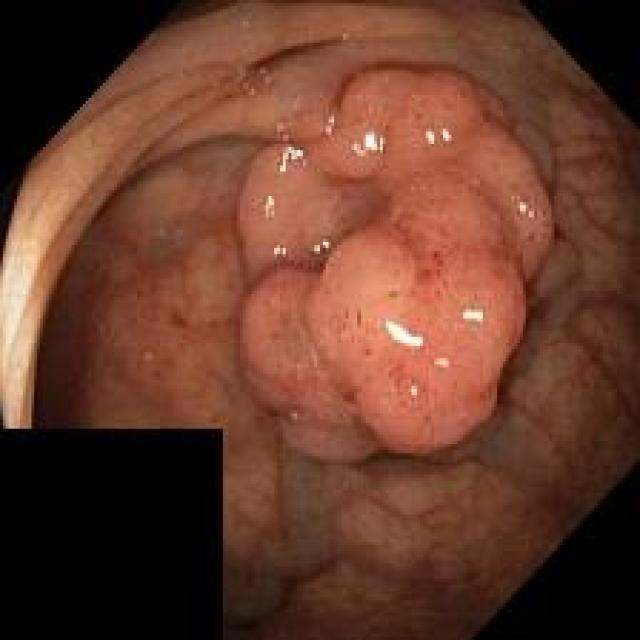Polyps: (238, 67, 554, 462)
